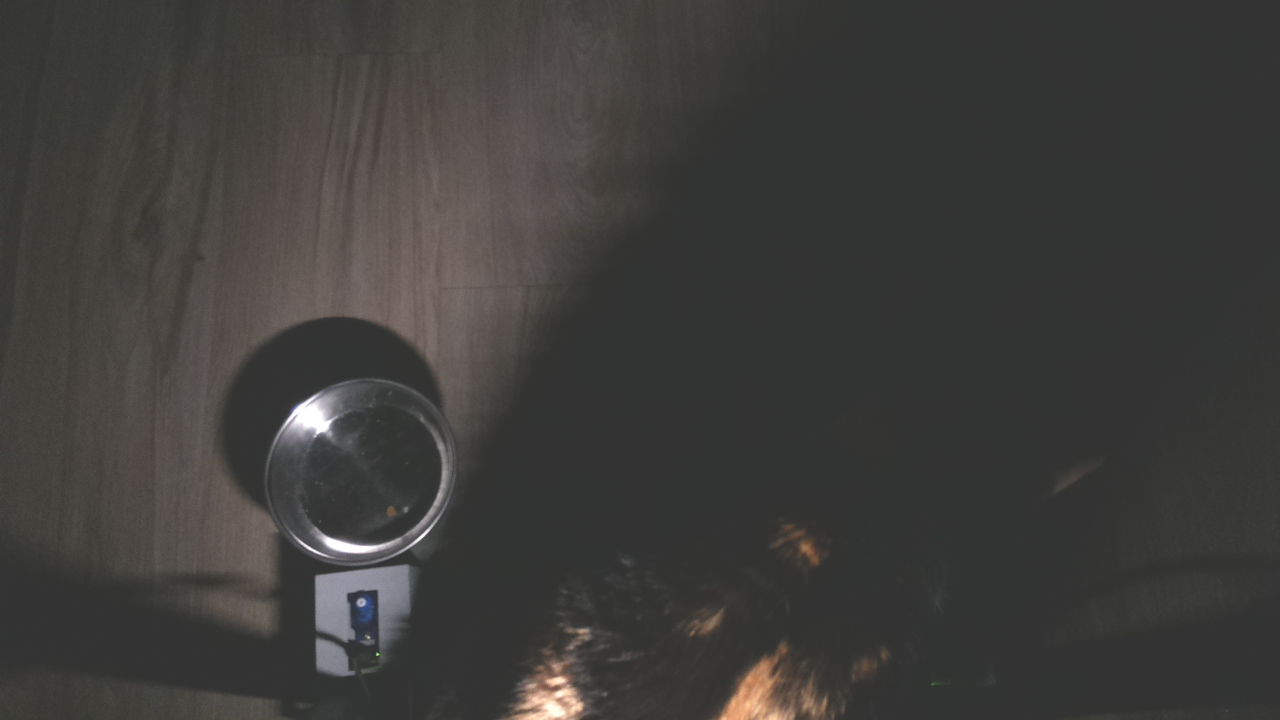open_bowl: (257, 371, 465, 575)
